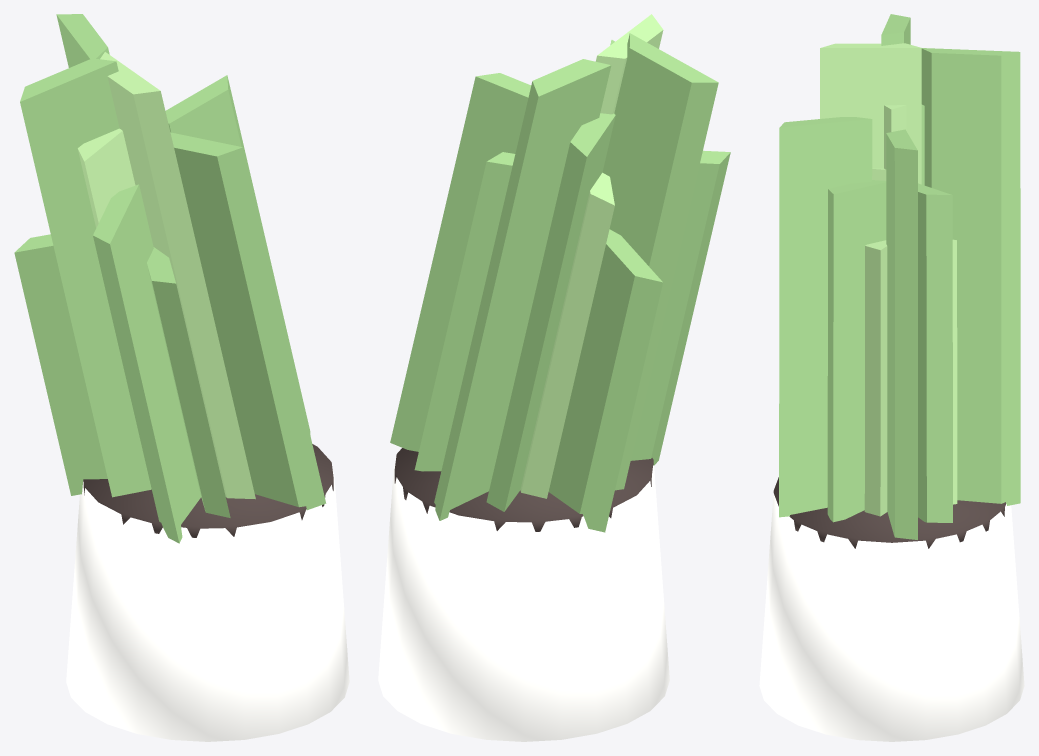
File: dining_snake_plant.glb
3 renders of one model, left to right at view 1: azimuth 30°, elevation 25°; view 2: azimuth 150°, elevation 25°; view 3: azimuth 270°, elevation 25°, orthographic. The views are drawn at different scales.
Visible parts, largest first — view 1: root; view 2: root; view 3: root.
Boxes of the visible parts, bbox=[...] form: root: bbox=[14, 14, 349, 741]; root: bbox=[378, 14, 730, 741]; root: bbox=[759, 14, 1024, 741].
Size of the model in its own units: 0.4329 by 0.8618 by 0.3414.
